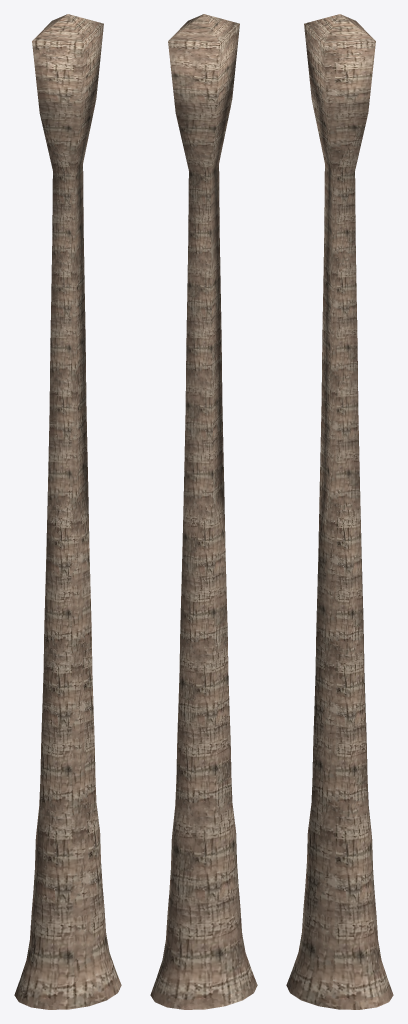
The model's file is m_palm_p2_2_trunk_0.001_lev2.glb.
The picture shows the model from 3 angles, left to right: view 1: azimuth 30°, elevation 25°; view 2: azimuth 210°, elevation 25°; view 3: azimuth 330°, elevation 25°; orthographic projection.
Visible parts, largest first — view 1: m_palm_p2_2_trunk_0.001_lev2; view 2: m_palm_p2_2_trunk_0.001_lev2; view 3: m_palm_p2_2_trunk_0.001_lev2.
Part boxes in pixels (box(x1,y1,x2,y2)): m_palm_p2_2_trunk_0.001_lev2: box(14, 14, 121, 1009); m_palm_p2_2_trunk_0.001_lev2: box(150, 14, 257, 1009); m_palm_p2_2_trunk_0.001_lev2: box(286, 14, 393, 1009).
Bounding box in the file's own units: 0.4987 × 4.74 × 0.3826.
1 material, 1 textured.
